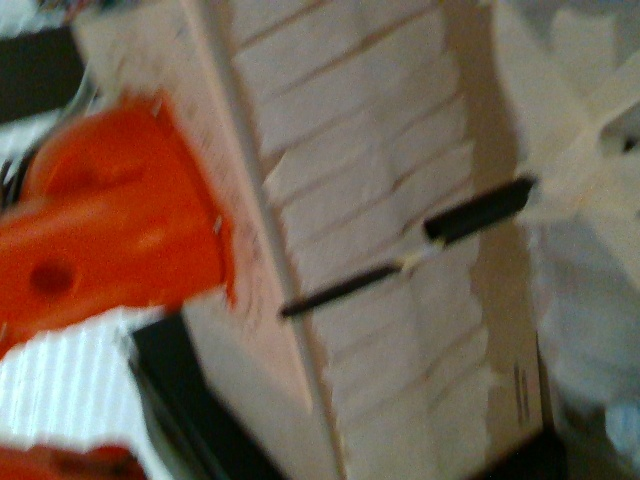test_strip: (278, 237, 440, 319)
